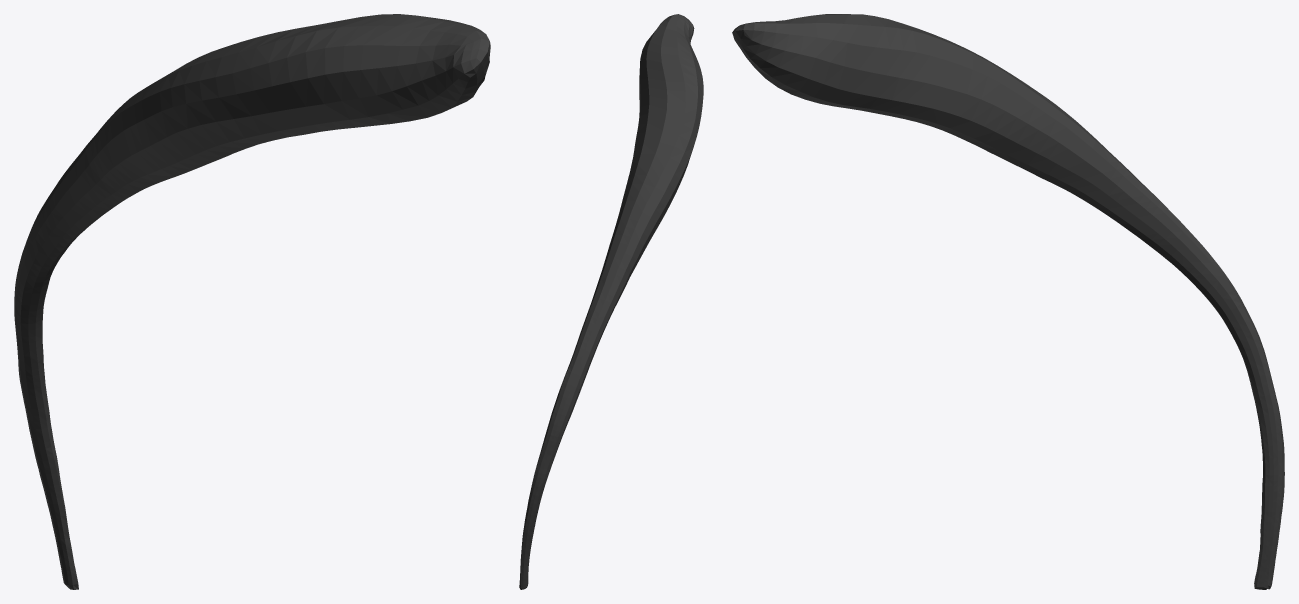
Rendered from DDF_medial.glb.
3 views of the same model, side by side, from view 1: azimuth 30°, elevation 25°; view 2: azimuth 150°, elevation 25°; view 3: azimuth 270°, elevation 25° (orthographic). The views are drawn at different scales.
Parts seen in each view (by area): view 1: DDF_medial; view 2: DDF_medial; view 3: DDF_medial.
Boxes of the visible parts, box(x1,y1,x2,y2) form: DDF_medial: box(14, 14, 490, 589); DDF_medial: box(519, 14, 703, 589); DDF_medial: box(732, 14, 1284, 589).
Bounding box in the file's own units: 16.84 × 67.56 × 57.37.
1 material, 1 textured.
